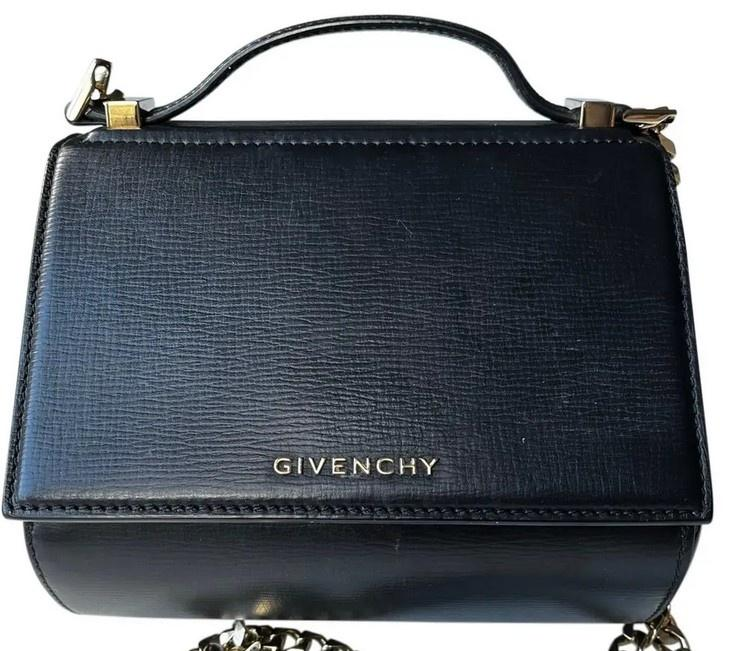GIVENCHY: (255, 437, 466, 493)
